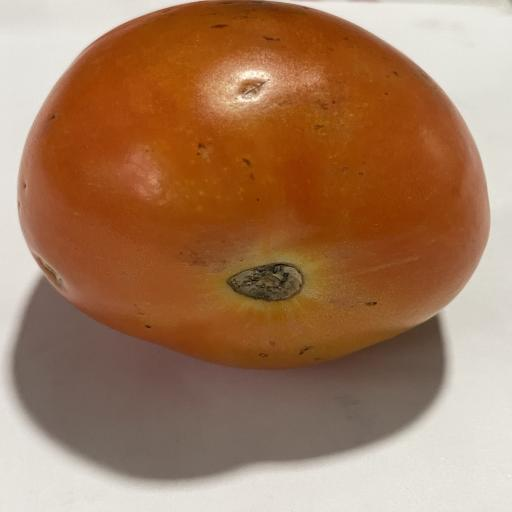ripe: (18, 0, 489, 369)
